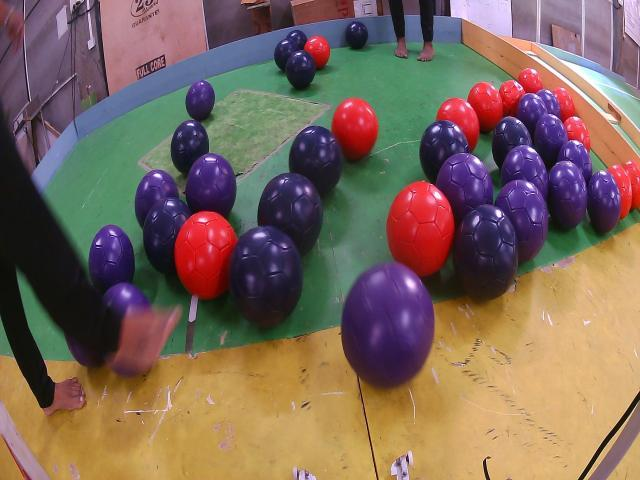jambhalya: (341, 262, 435, 387), (495, 180, 549, 263), (436, 153, 494, 225), (185, 153, 236, 218), (89, 225, 135, 293), (548, 160, 588, 230), (501, 145, 549, 200), (135, 170, 179, 226), (588, 170, 621, 233), (534, 113, 568, 168), (102, 282, 150, 318), (516, 93, 548, 141), (558, 140, 592, 183), (65, 334, 104, 368), (185, 80, 215, 122), (536, 88, 561, 118)
kaalyya: (228, 225, 302, 327), (452, 205, 519, 300), (258, 173, 322, 255), (289, 125, 342, 197), (142, 198, 190, 274), (419, 120, 470, 183), (170, 120, 209, 175), (491, 117, 532, 168), (285, 50, 316, 90), (274, 38, 299, 71), (345, 22, 368, 48), (287, 30, 308, 50)
